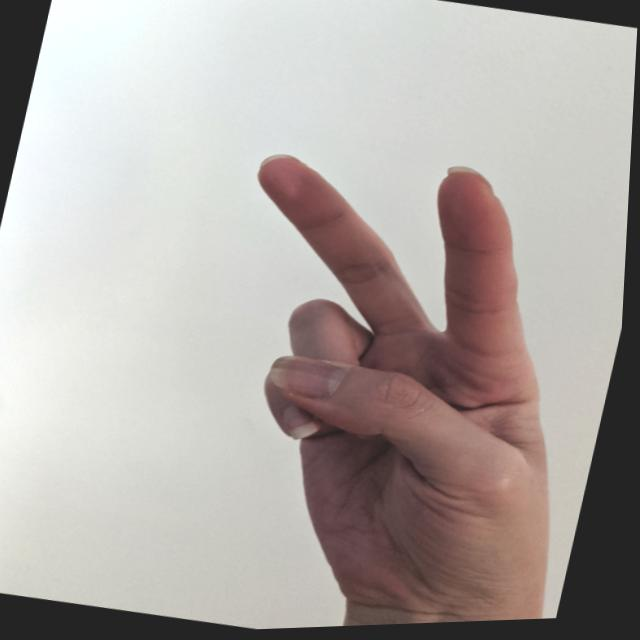V: (161, 123, 633, 634)
